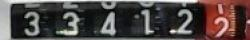digits: (52, 9, 84, 39), (136, 8, 158, 39), (168, 7, 192, 34), (208, 16, 230, 39), (99, 10, 116, 35), (23, 10, 40, 35)
